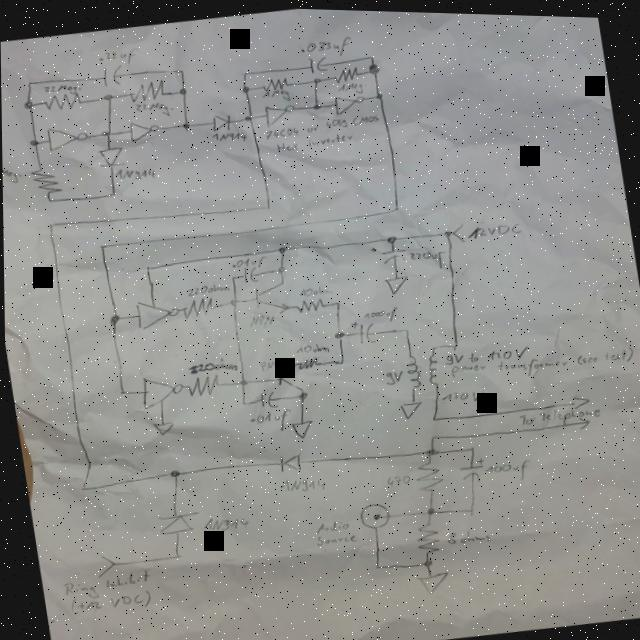capacitor: (454, 453, 487, 482), (368, 240, 407, 264), (349, 316, 377, 344), (97, 62, 125, 87), (254, 387, 277, 409), (307, 53, 329, 72), (240, 266, 258, 282)
diode: (152, 508, 201, 537), (95, 145, 126, 170), (274, 450, 302, 473), (209, 111, 233, 131)
ground: (412, 567, 452, 595), (396, 397, 424, 418), (382, 272, 410, 293), (288, 417, 314, 438), (149, 419, 177, 437)
junction: (106, 311, 121, 326), (101, 91, 116, 103), (367, 60, 380, 73), (417, 555, 432, 566), (179, 119, 192, 131), (21, 98, 34, 110), (422, 503, 436, 514), (166, 467, 180, 478), (99, 127, 113, 138), (383, 232, 396, 243), (114, 386, 127, 397), (226, 295, 239, 306), (372, 89, 385, 99), (423, 444, 436, 454), (27, 138, 40, 148), (295, 389, 307, 399), (310, 101, 324, 109), (332, 328, 344, 337), (242, 112, 254, 121), (311, 74, 322, 83), (275, 244, 286, 253), (176, 86, 187, 95), (236, 376, 247, 385), (240, 84, 251, 93), (169, 550, 180, 559), (75, 484, 86, 492), (142, 264, 153, 272), (427, 412, 438, 420), (440, 227, 451, 235), (371, 560, 380, 568), (275, 264, 284, 272), (45, 196, 54, 204), (238, 398, 247, 406), (464, 505, 473, 513), (428, 341, 437, 349), (108, 190, 117, 197), (177, 67, 186, 74), (335, 356, 344, 363), (427, 431, 436, 438), (449, 340, 458, 347), (367, 51, 375, 58), (46, 222, 54, 229), (240, 69, 248, 76), (263, 202, 271, 209), (24, 80, 33, 86), (466, 443, 474, 449), (401, 325, 409, 331), (228, 273, 236, 279), (97, 242, 104, 248), (392, 203, 399, 209), (333, 299, 339, 304)
resistor: (410, 456, 444, 492), (411, 517, 441, 554), (127, 77, 167, 104), (183, 371, 221, 398), (29, 165, 62, 195), (179, 294, 215, 319), (42, 90, 82, 112), (292, 295, 326, 312), (259, 74, 288, 91), (332, 64, 360, 81), (295, 354, 318, 369)
terminal: (354, 499, 391, 529), (91, 552, 115, 579), (450, 219, 466, 242), (567, 391, 590, 407), (575, 412, 591, 426)
text: (447, 337, 634, 387), (262, 108, 381, 142), (59, 566, 151, 603), (62, 585, 155, 617), (441, 338, 531, 367), (515, 398, 600, 428), (274, 126, 355, 153), (299, 32, 355, 60), (465, 216, 525, 240), (246, 405, 293, 435), (482, 454, 532, 481), (275, 470, 326, 495), (184, 352, 239, 375), (95, 43, 141, 68), (201, 511, 249, 533), (408, 244, 447, 270), (443, 524, 491, 545), (439, 384, 485, 405), (113, 163, 157, 184), (134, 98, 174, 120), (183, 279, 230, 297), (313, 529, 357, 547), (361, 303, 399, 323), (40, 81, 82, 98), (210, 127, 249, 145), (311, 516, 350, 534), (229, 253, 268, 271), (291, 339, 329, 356), (296, 281, 333, 298), (259, 85, 292, 103), (2, 163, 22, 188), (336, 78, 367, 94), (245, 311, 274, 327), (382, 470, 411, 486), (382, 366, 404, 384), (257, 356, 280, 370)
transformer: (400, 347, 442, 389)
transistor: (251, 277, 292, 316), (273, 360, 303, 392)
